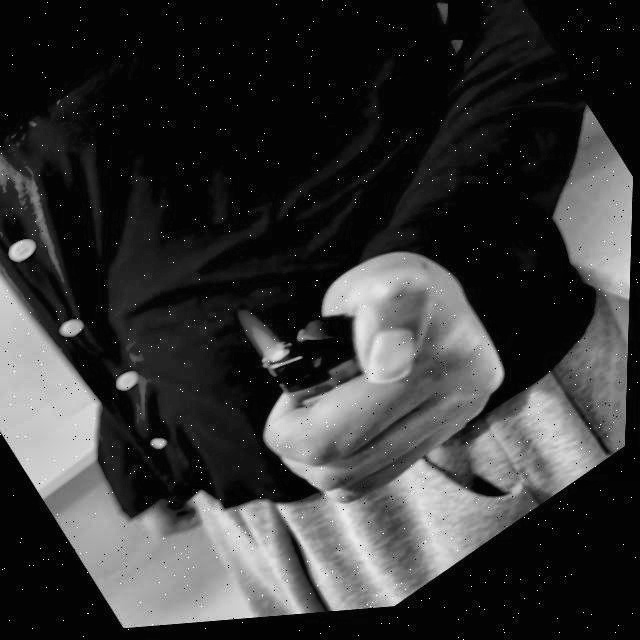Fire: (232, 294, 298, 376)
